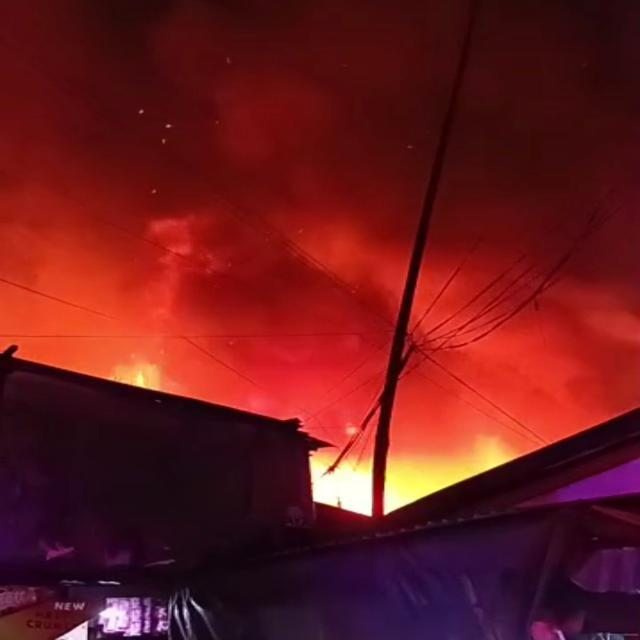Fire: (311, 440, 513, 520)
